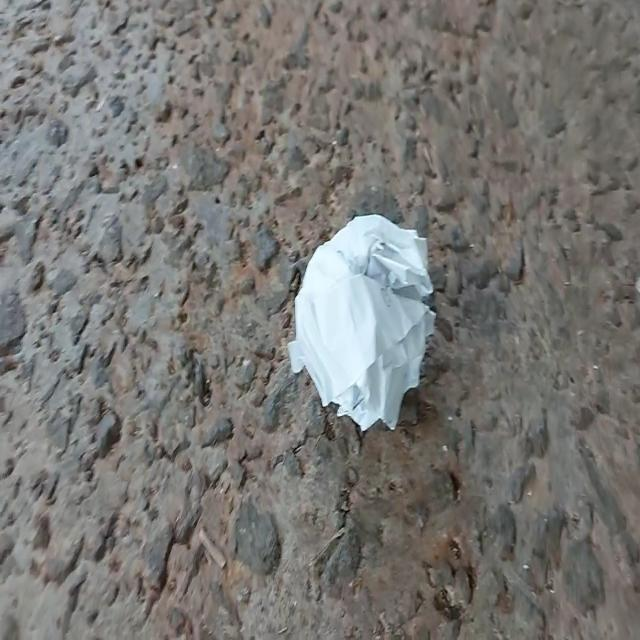Paper: (278, 196, 451, 439)
